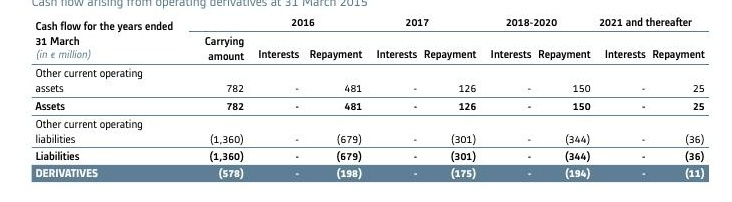table: (0, 0, 732, 202)
